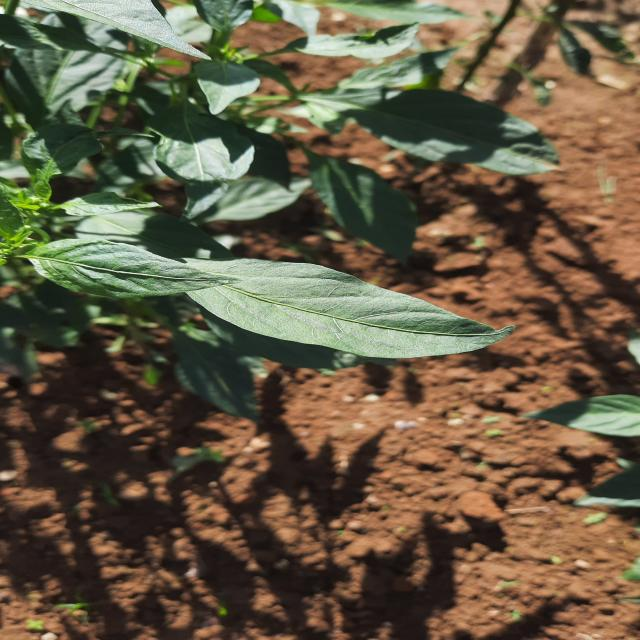sehat: (165, 250, 505, 382), (27, 221, 222, 299), (270, 157, 421, 255)
